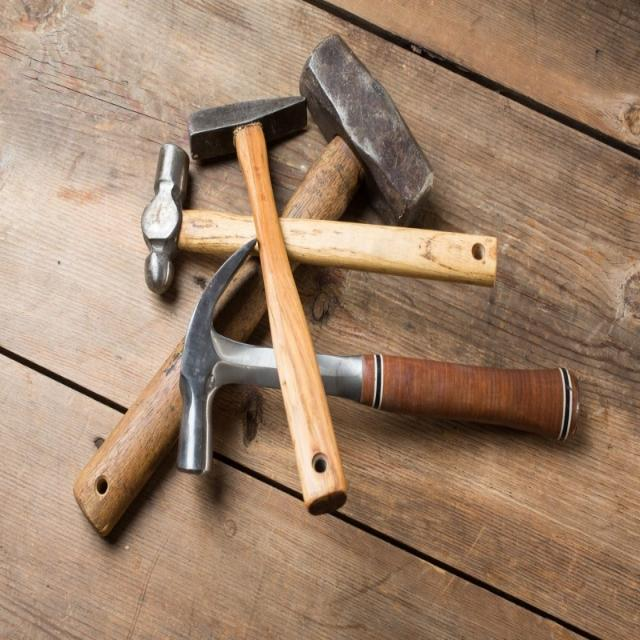hammer: (157, 234, 606, 481), (194, 82, 373, 526), (136, 133, 512, 304)
